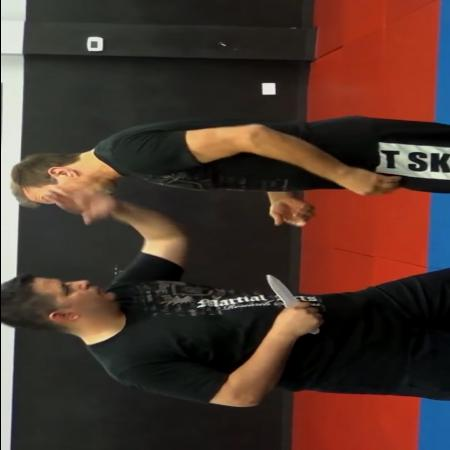long weapon: (261, 273, 323, 337)
